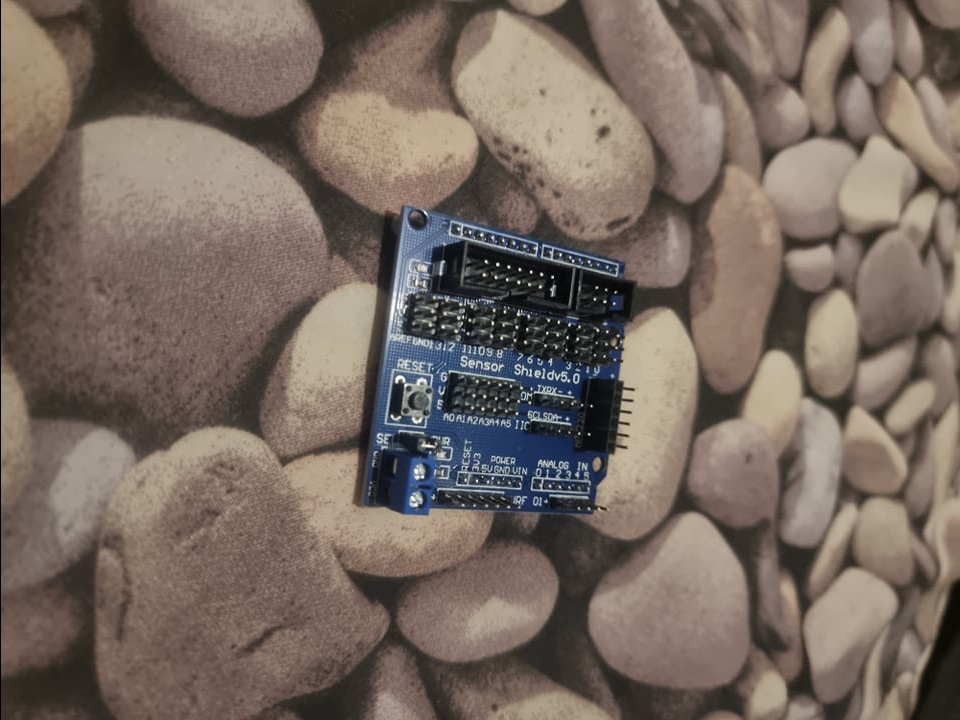5V EXPANSION: (350, 204, 641, 519)
